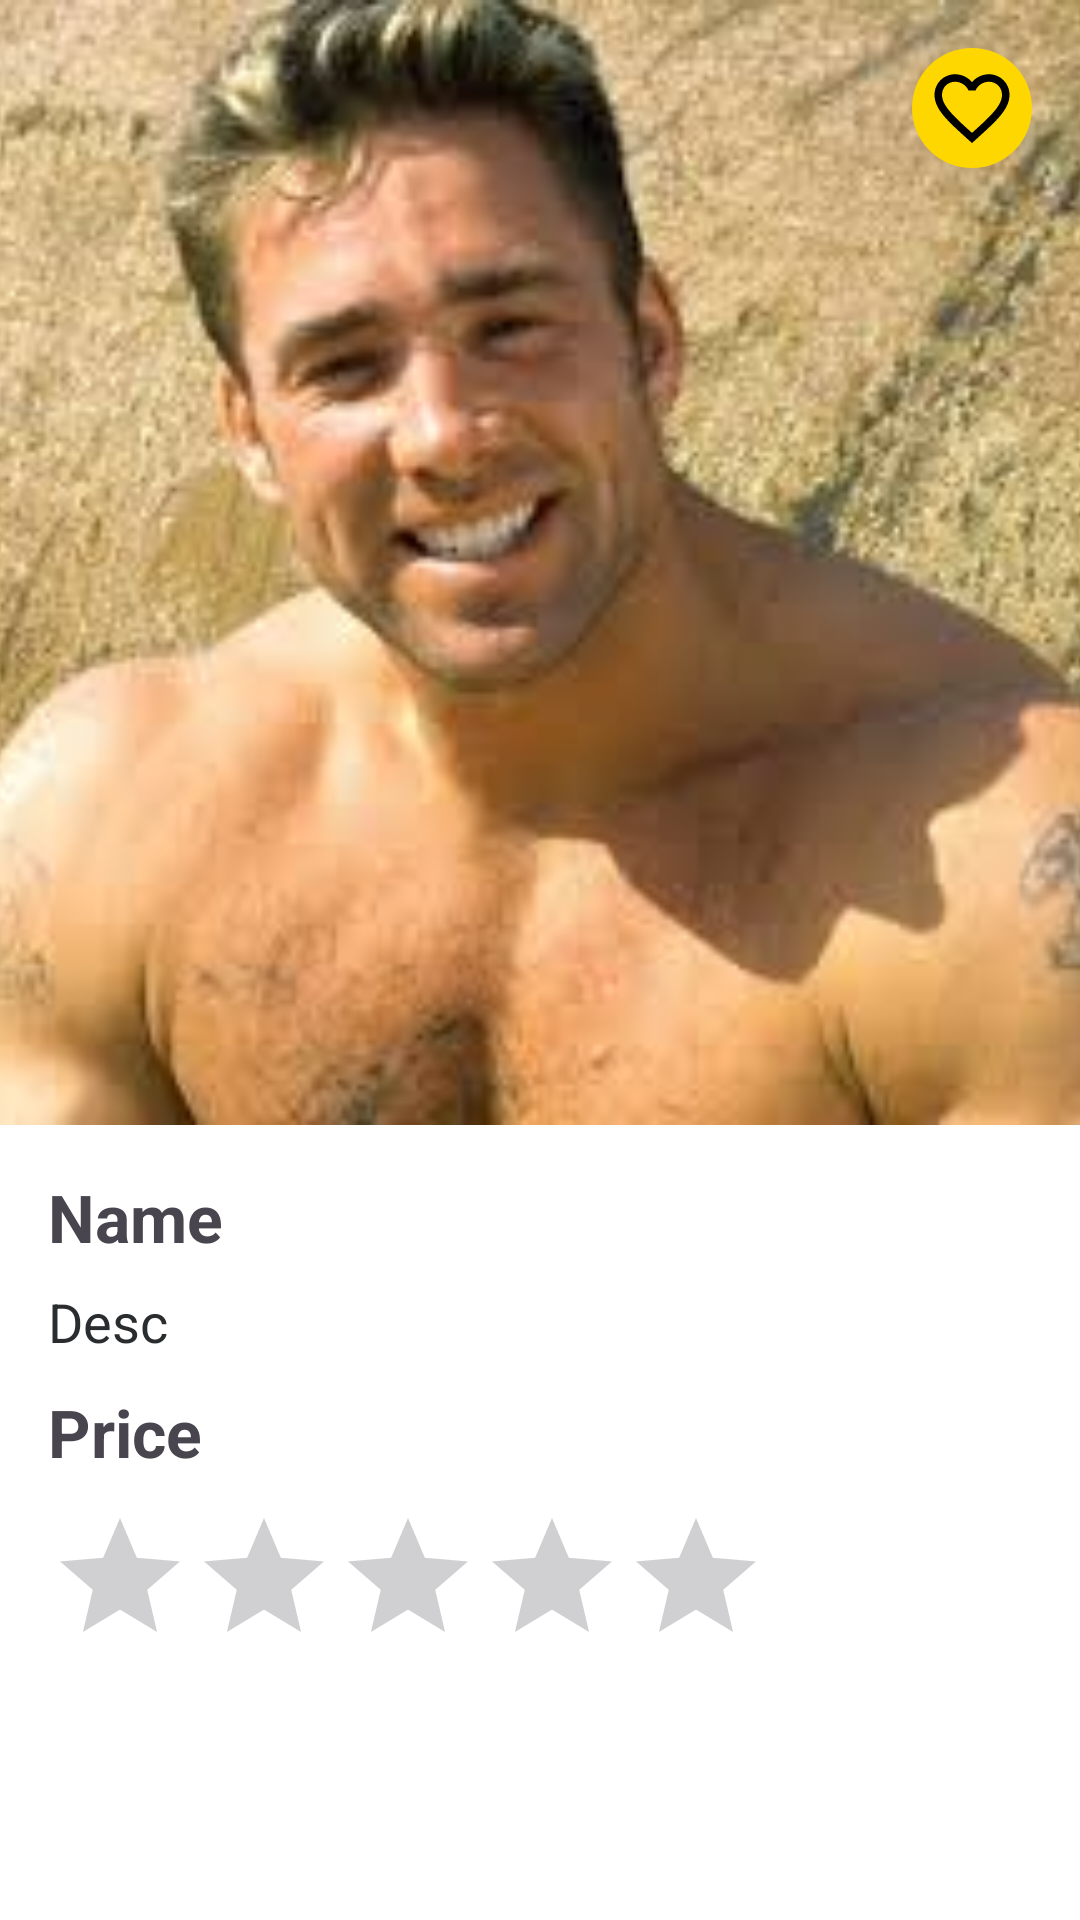

Screen size 1080*1920. Icon name, then its box in pixels as region(x1, y1, x2, y2):
favorite: region(912, 48, 1032, 168)
